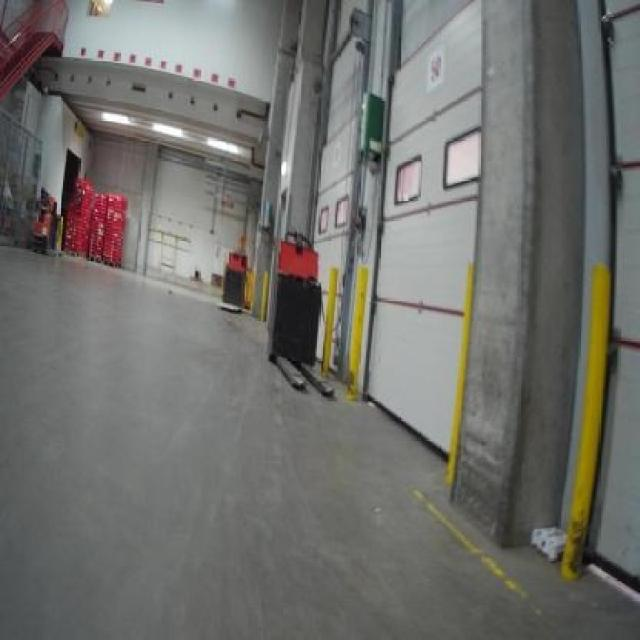floor: (0, 246, 637, 637), (405, 483, 528, 598)
pallets: (271, 237, 318, 362), (62, 177, 125, 263)
